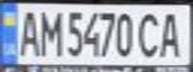0: (115, 9, 136, 58)
4: (81, 7, 100, 57)
5: (63, 7, 84, 57)
7: (97, 8, 118, 57)
A: (157, 8, 187, 60), (12, 6, 42, 57)
C: (136, 9, 163, 58)
M: (36, 7, 63, 57)
